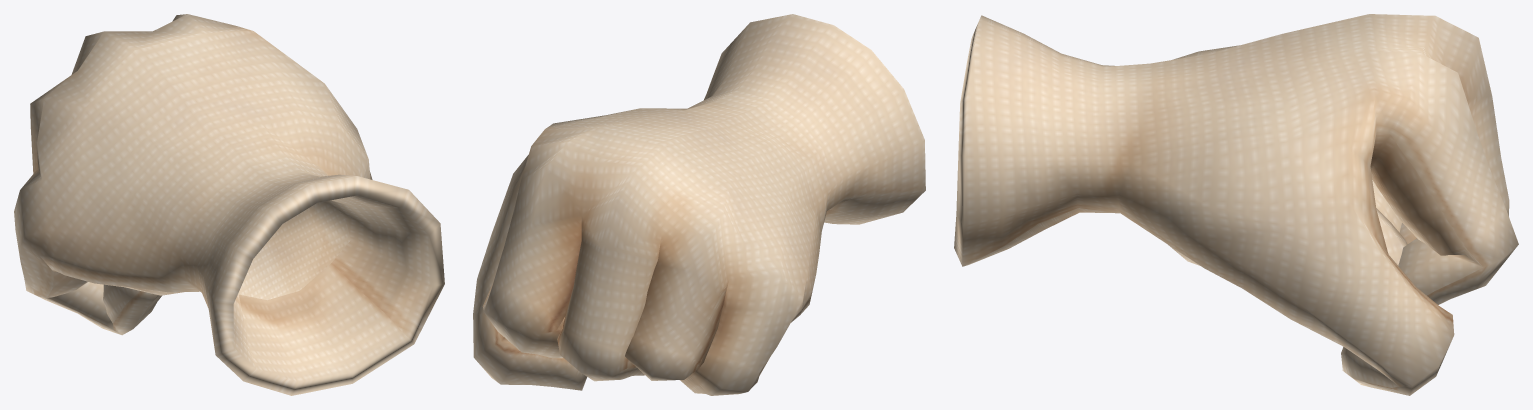
The model's file is Hand_L.fbx.
The picture shows the model from 3 angles, left to right: view 1: azimuth 30°, elevation 25°; view 2: azimuth 150°, elevation 25°; view 3: azimuth 270°, elevation 25°; orthographic projection. The views are drawn at different scales.
Visible parts, largest first — view 1: Hand_L; view 2: Hand_L; view 3: Hand_L.
Part boxes in pixels (x1=…): Hand_L: x1=14, y1=14, x2=444, y2=395; Hand_L: x1=473, y1=14, x2=925, y2=395; Hand_L: x1=954, y1=14, x2=1518, y2=395.
Bounding box in the file's own units: 23.53 × 19.98 × 32.78.
